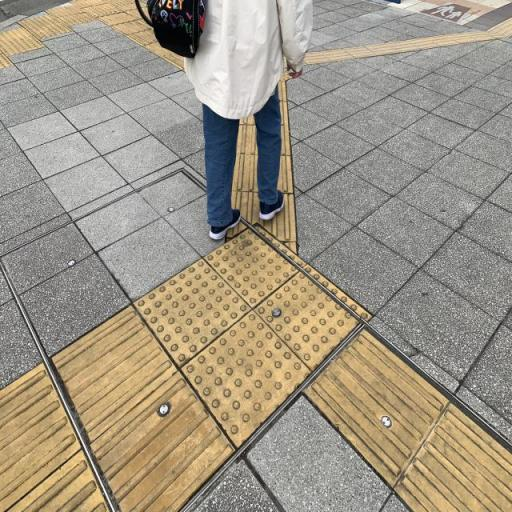dot: (181, 310, 313, 448), (133, 259, 254, 369), (255, 265, 374, 372), (206, 224, 309, 309)
line: (301, 329, 451, 491), (87, 370, 236, 511), (49, 303, 180, 441)
